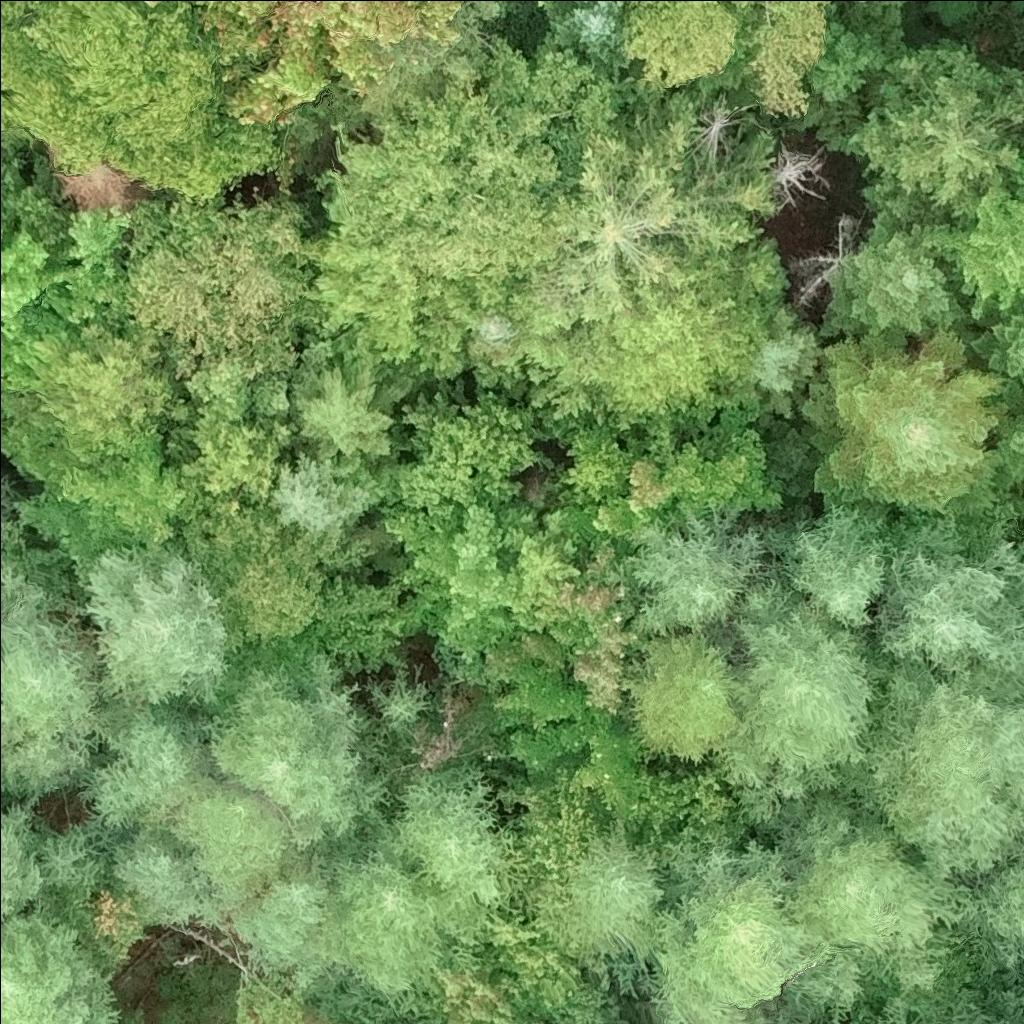crown: (437, 124, 781, 376), (317, 49, 612, 265), (0, 0, 277, 203), (715, 579, 884, 828), (524, 266, 757, 433), (198, 679, 411, 860), (802, 329, 1009, 512), (180, 0, 470, 129), (856, 668, 1023, 890), (651, 846, 854, 1023), (789, 808, 977, 990), (853, 43, 1023, 232), (181, 483, 370, 648), (304, 219, 480, 381), (173, 192, 324, 376), (386, 507, 558, 655), (622, 0, 834, 115), (0, 567, 104, 800), (876, 524, 1023, 683), (83, 552, 231, 709), (373, 390, 540, 524), (398, 766, 523, 943), (592, 431, 782, 547), (622, 495, 761, 647), (52, 414, 206, 551), (819, 217, 966, 352), (322, 853, 454, 1003), (159, 777, 301, 912), (543, 820, 664, 972), (0, 204, 137, 338), (913, 160, 1023, 320), (88, 686, 210, 830), (227, 857, 355, 992), (498, 776, 610, 917), (623, 631, 743, 759), (40, 331, 175, 443), (32, 858, 162, 974), (787, 501, 893, 632), (0, 907, 116, 1023), (115, 821, 235, 933), (132, 237, 223, 383), (439, 916, 548, 1023), (545, 544, 640, 651), (296, 368, 400, 462), (0, 153, 78, 273), (274, 451, 382, 536), (186, 413, 287, 496), (185, 350, 291, 426), (965, 842, 1023, 965), (571, 624, 636, 711), (553, 0, 635, 67), (757, 309, 820, 396), (0, 809, 47, 923), (688, 95, 753, 175), (792, 219, 856, 297), (529, 919, 580, 1016), (517, 533, 583, 603), (368, 680, 439, 741), (975, 298, 1023, 385), (990, 382, 1023, 497), (767, 149, 823, 204), (236, 980, 305, 1023), (0, 478, 15, 517), (538, 0, 556, 8), (0, 235, 2, 244), (151, 0, 160, 1)
